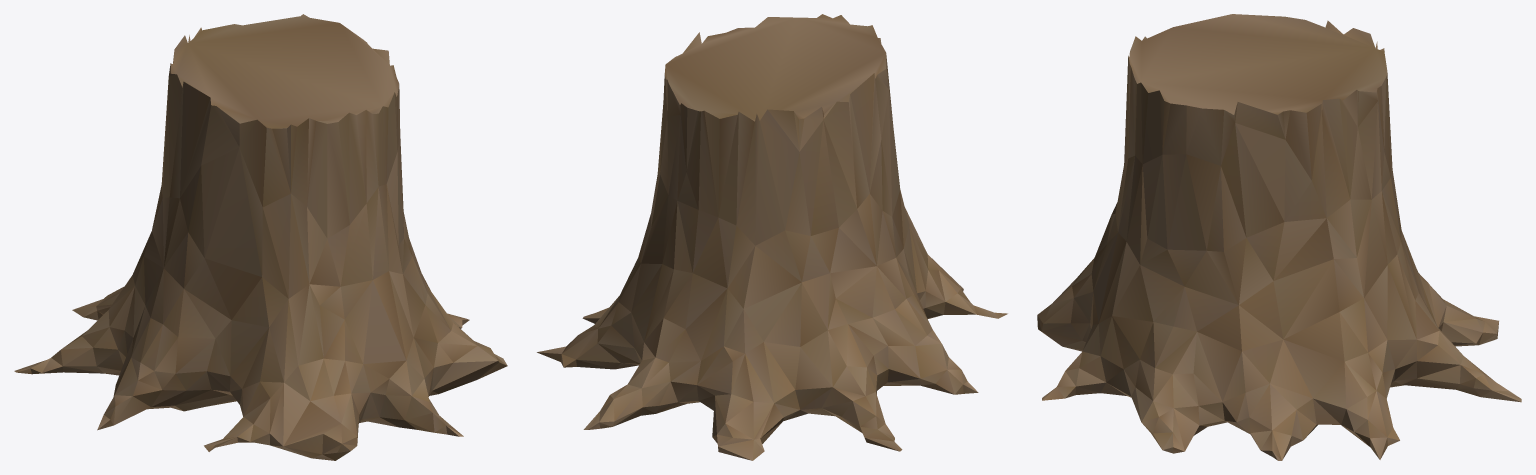
File: oak_stump.glb
The picture shows the model from 3 angles, left to right: view 1: azimuth 30°, elevation 25°; view 2: azimuth 150°, elevation 25°; view 3: azimuth 270°, elevation 25°; orthographic projection. The views are drawn at different scales.
Visible parts, largest first — view 1: Stump; view 2: Stump; view 3: Stump.
Part boxes in pixels (x1=…): Stump: x1=14, y1=14, x2=507, y2=460; Stump: x1=537, y1=14, x2=1007, y2=460; Stump: x1=1037, y1=14, x2=1521, y2=460.
Bounding box in the file's own units: 0.9997 × 0.7706 × 1.06.
